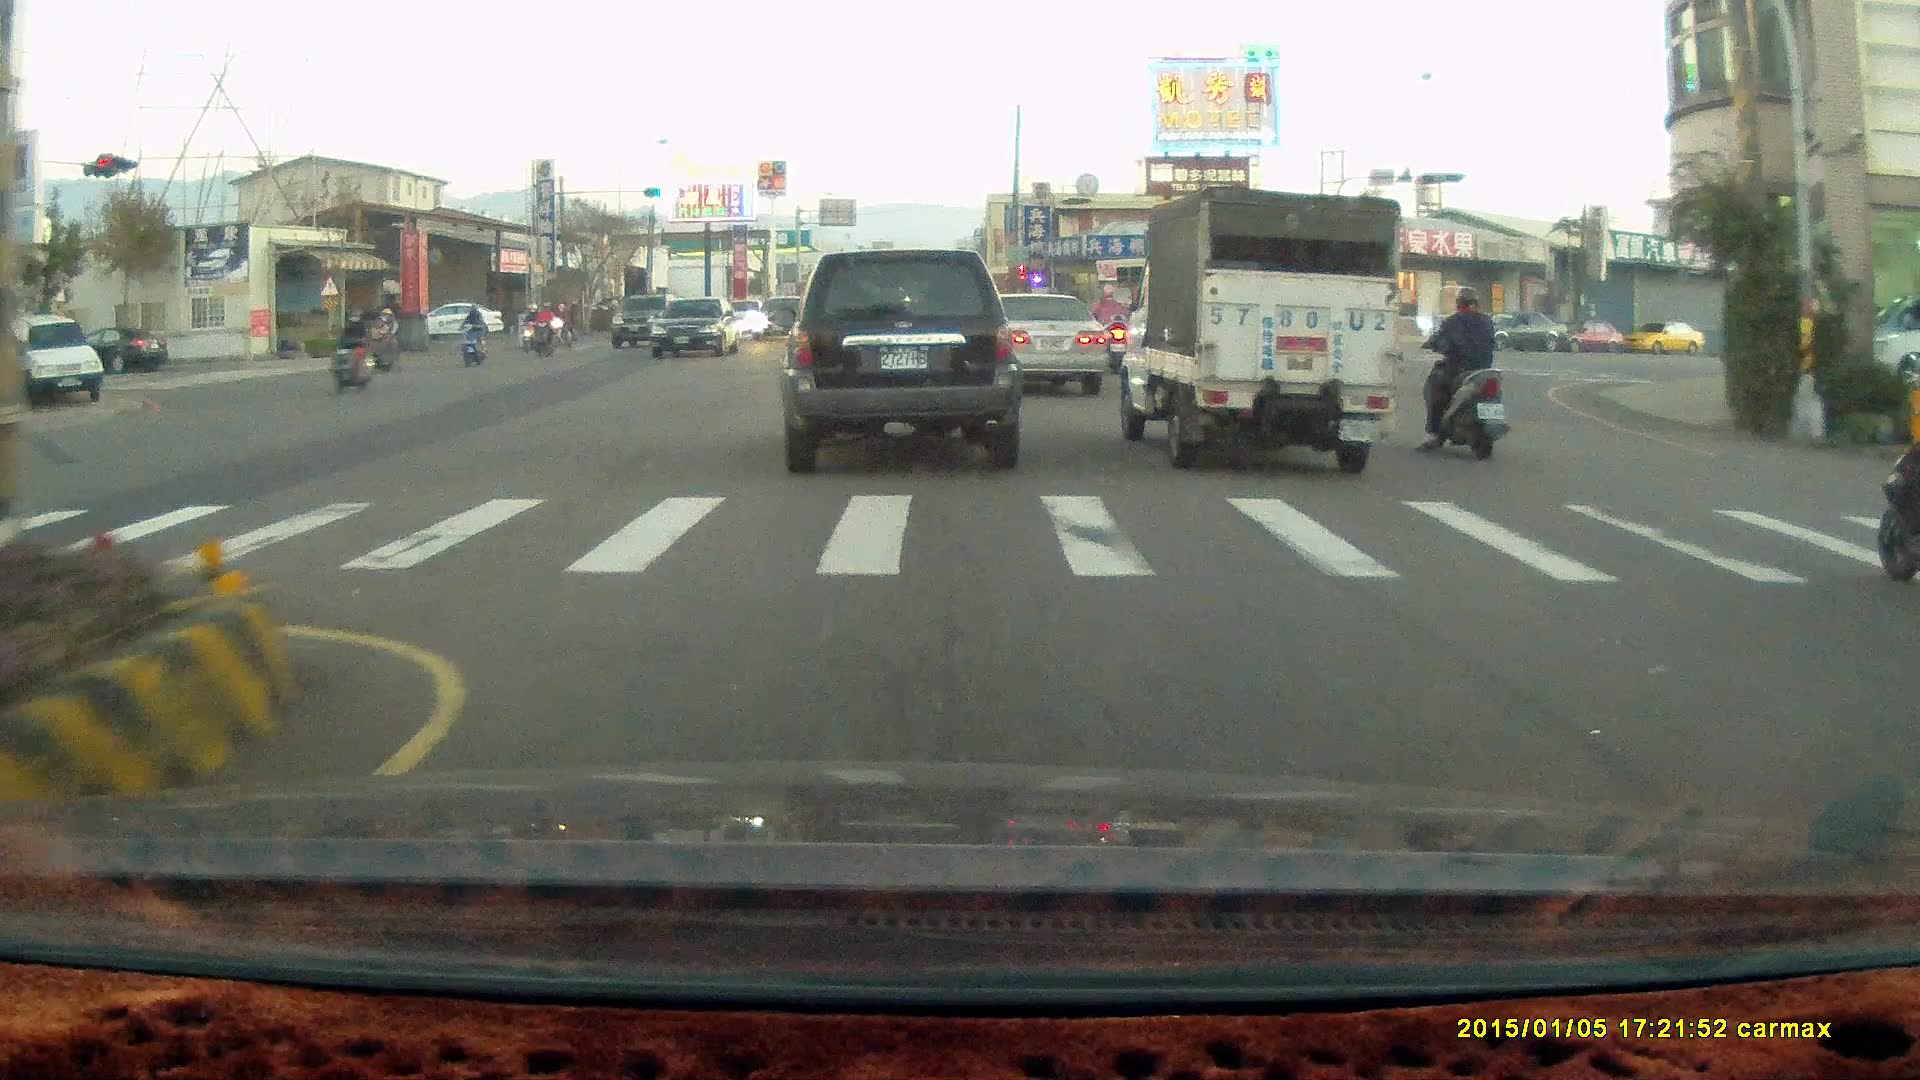rider: (1412, 280, 1510, 463), (1873, 429, 1920, 582), (335, 313, 376, 391), (363, 303, 404, 376), (458, 301, 487, 365), (528, 297, 557, 355), (518, 298, 547, 351)
vehicle: (1115, 184, 1401, 472), (777, 249, 1022, 473), (973, 290, 1111, 398), (971, 289, 1105, 393), (3, 314, 104, 406), (648, 296, 745, 361), (1464, 311, 1571, 357), (1868, 321, 1920, 393), (425, 302, 505, 341), (1556, 319, 1626, 356)
